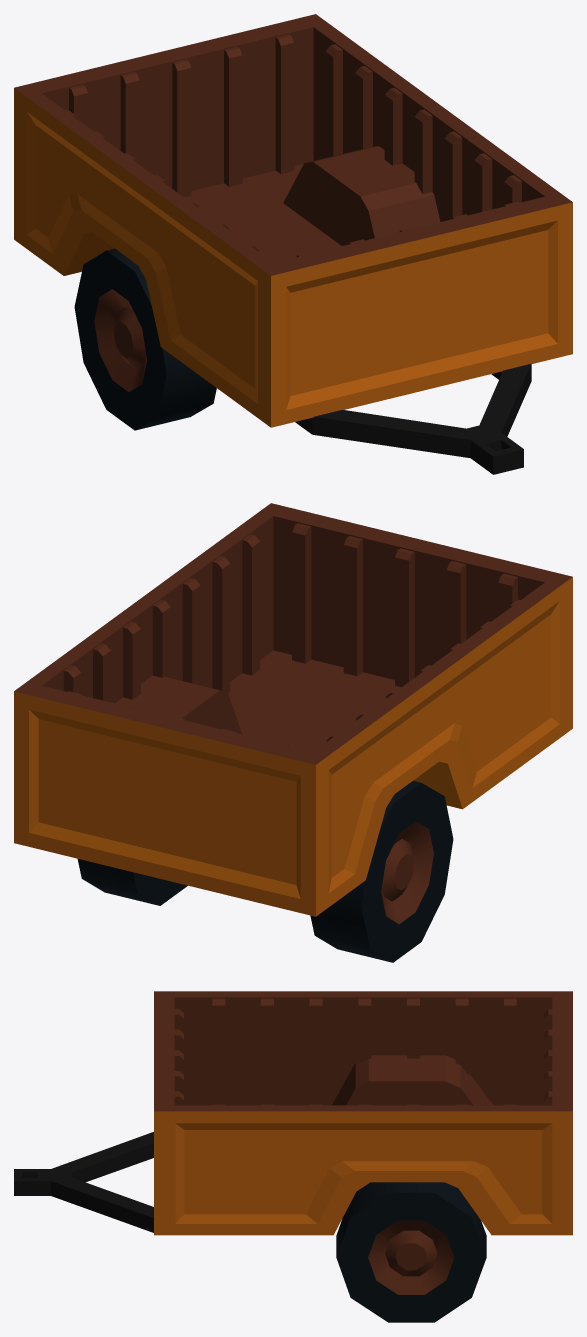
Rendered from Trailer_4_1.fbx.
The picture shows the model from 3 angles, top to bottom: view 1: azimuth 30°, elevation 25°; view 2: azimuth 150°, elevation 25°; view 3: azimuth 270°, elevation 25°; orthographic projection. The views are drawn at different scales.
Visible parts, largest first — view 1: Trailer_4_1; view 2: Trailer_4_1; view 3: Trailer_4_1.
Boxes of the visible parts, x1,y1,x2,y2 form: Trailer_4_1: (14, 14, 572, 474); Trailer_4_1: (14, 503, 572, 962); Trailer_4_1: (14, 991, 572, 1322).
Bounding box in the file's own units: 56.25 × 46.62 × 111.
